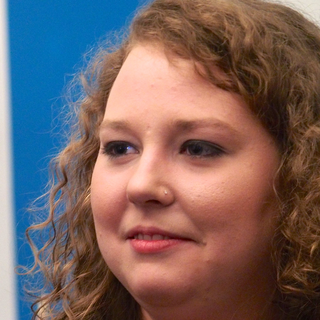eye: (175, 136, 229, 162), (100, 135, 143, 163)
